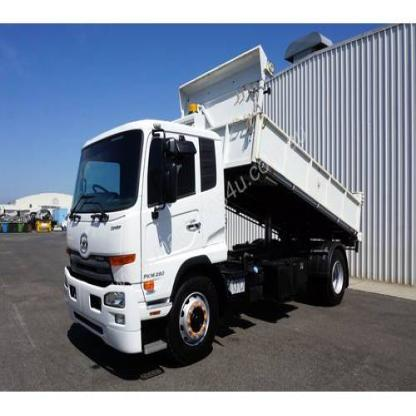dump_truck: (54, 39, 369, 367)
